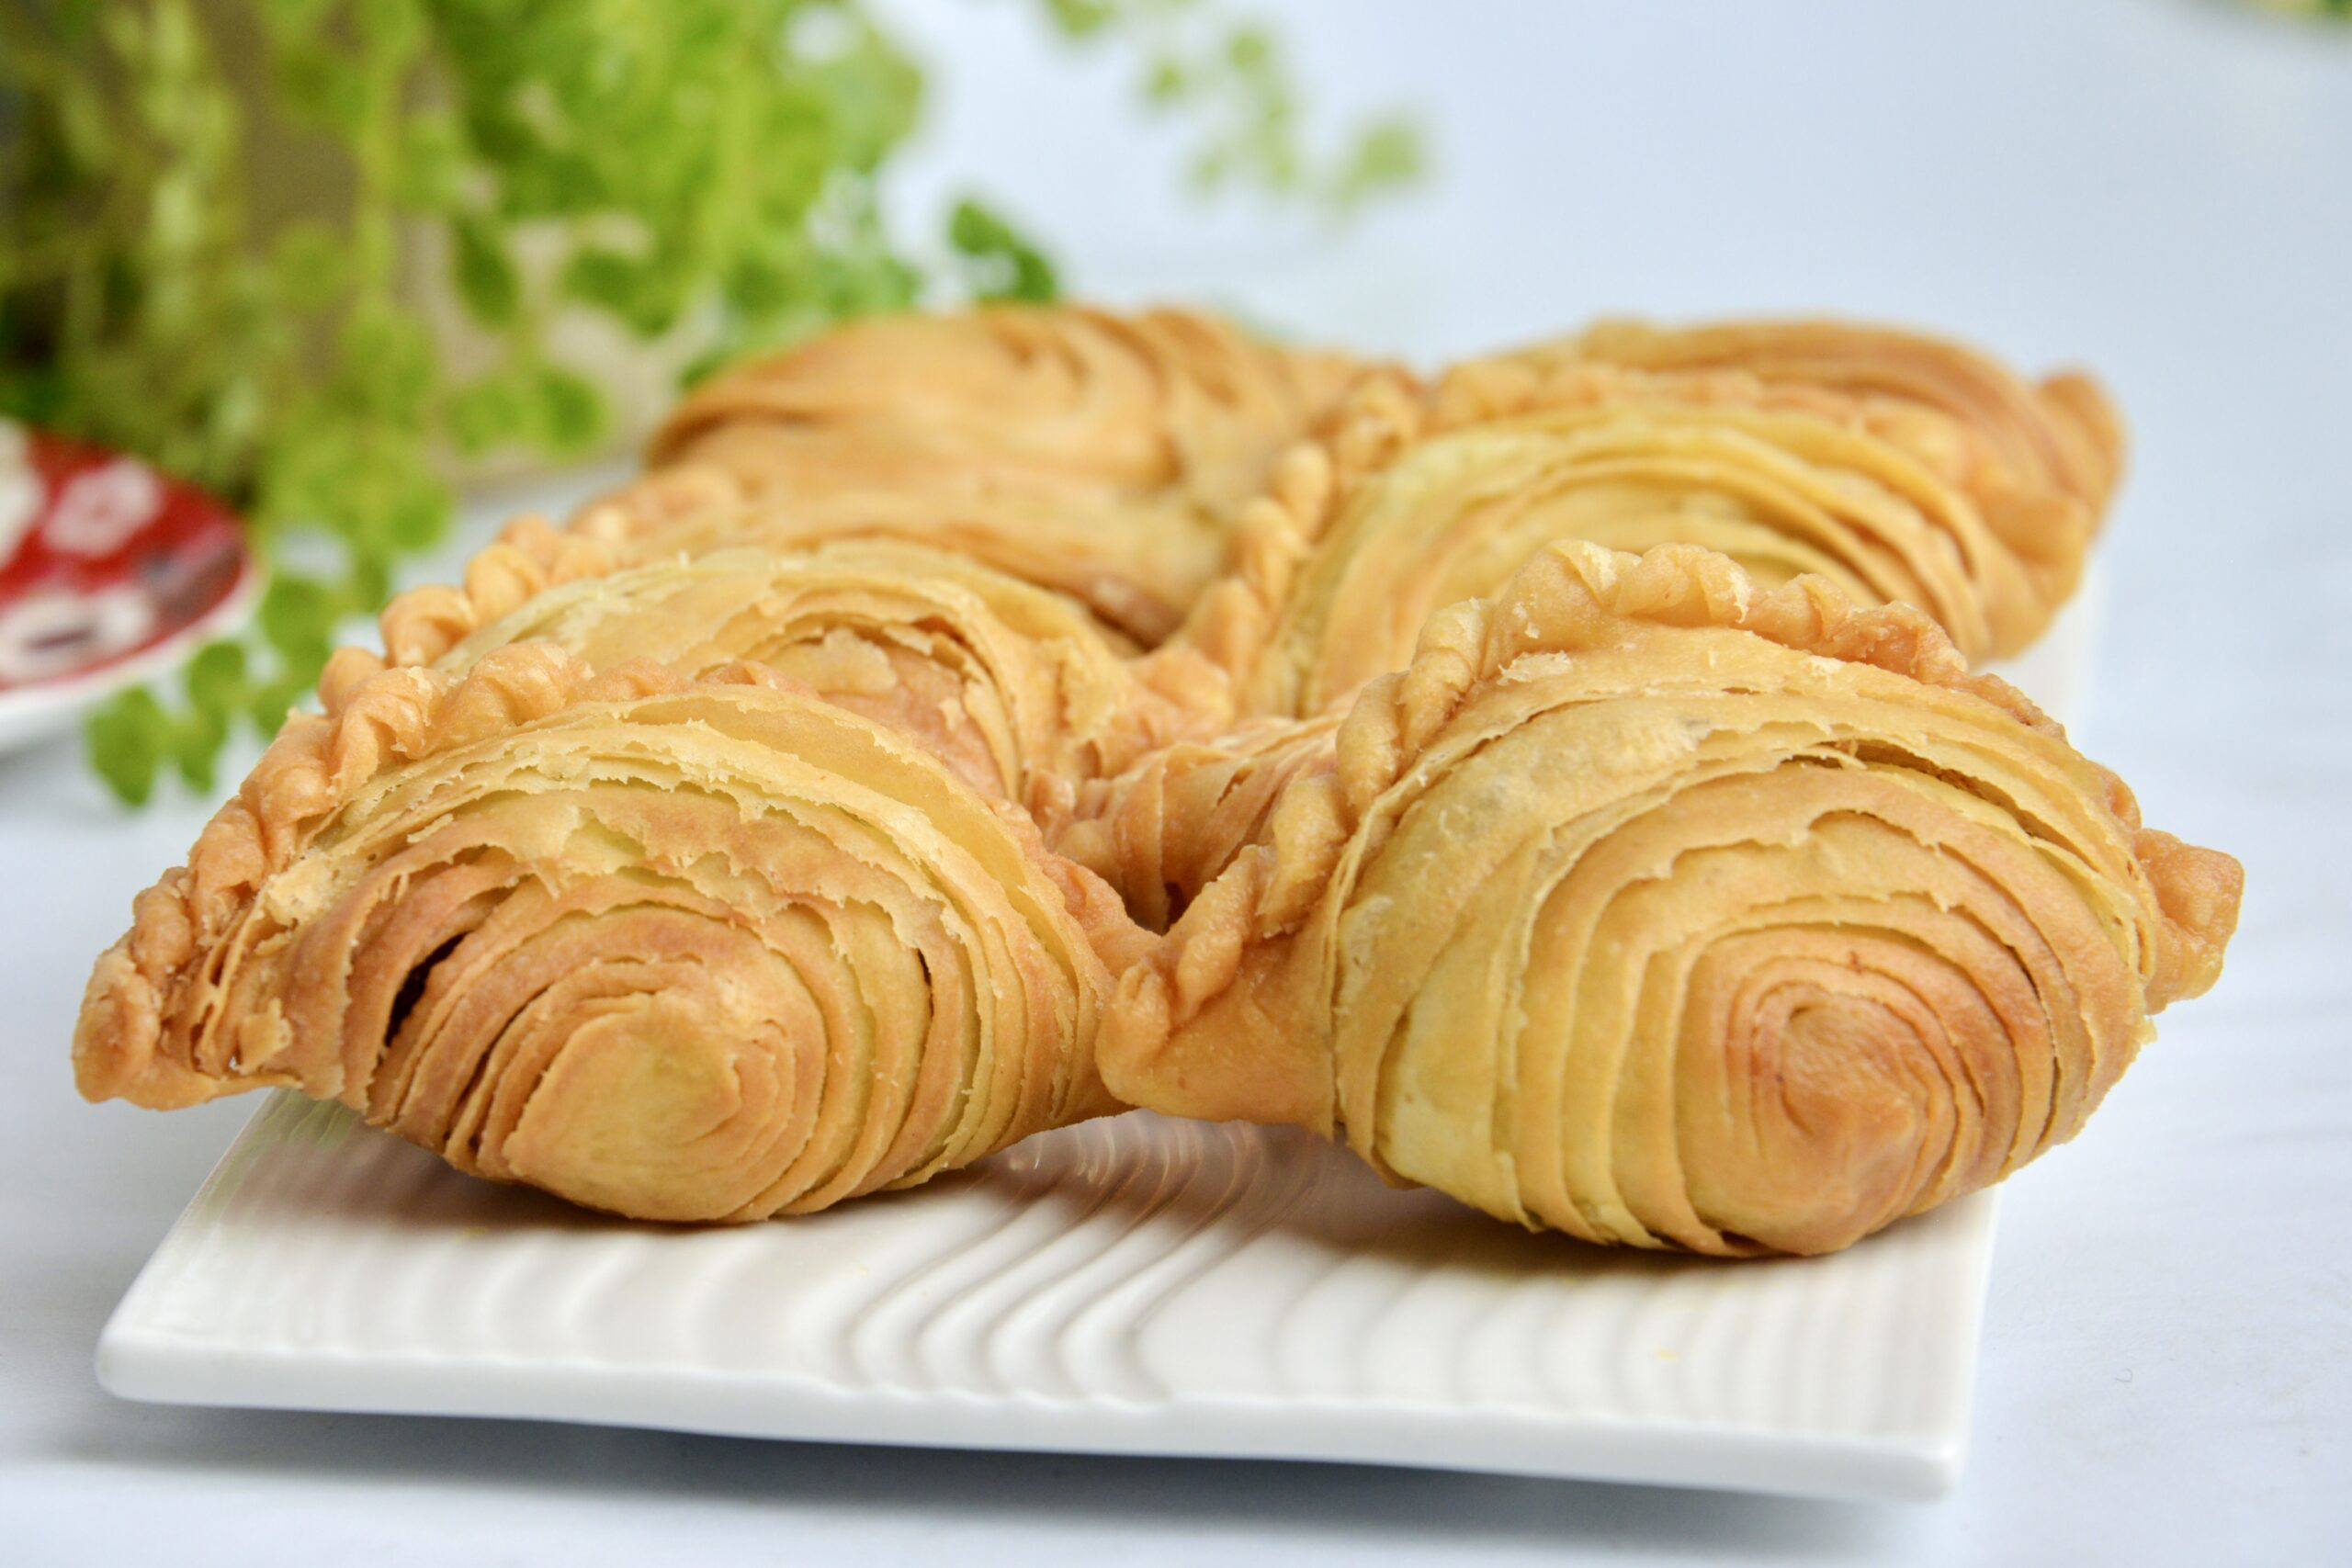Curry Puff: (1158, 522, 2222, 1283), (77, 642, 1207, 1200), (1057, 268, 2163, 805), (385, 296, 1375, 700)
